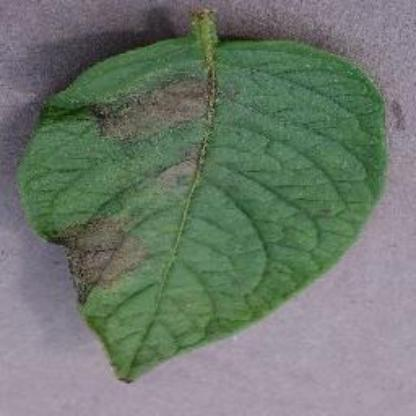Late-Blight: (18, 13, 396, 385)
